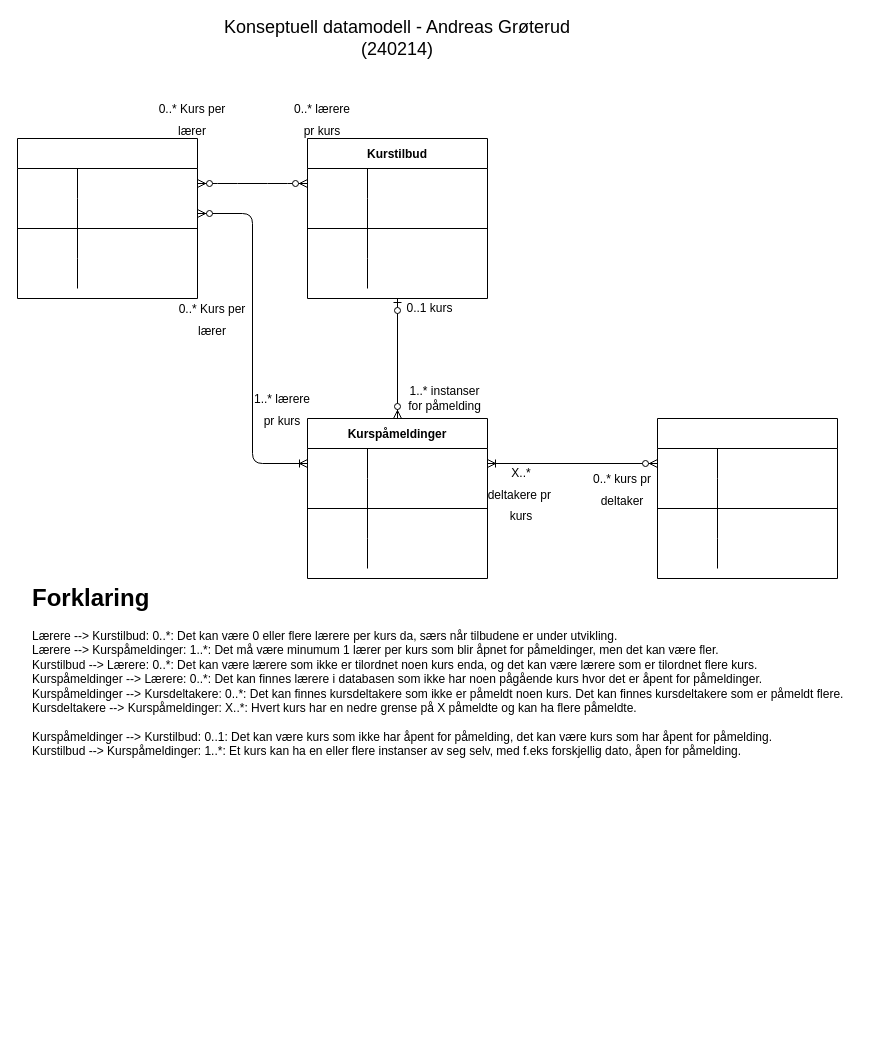
Image size: 875x1046. Some labels were removed from this diagram. The shapes that lost their labels are listed below. From the top down, each one's box as (x1, y1, x2, y2) in pixels, then its label:
(16, 138, 198, 298): Lærere
(656, 418, 838, 578): Kursdeltakere
